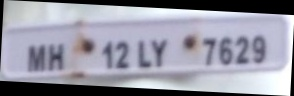character: (26, 44, 45, 72), (47, 43, 64, 71), (150, 39, 167, 67), (234, 35, 250, 64), (219, 36, 234, 65), (202, 37, 217, 65), (136, 39, 151, 66), (251, 35, 265, 63), (114, 41, 129, 67), (100, 41, 114, 68)
